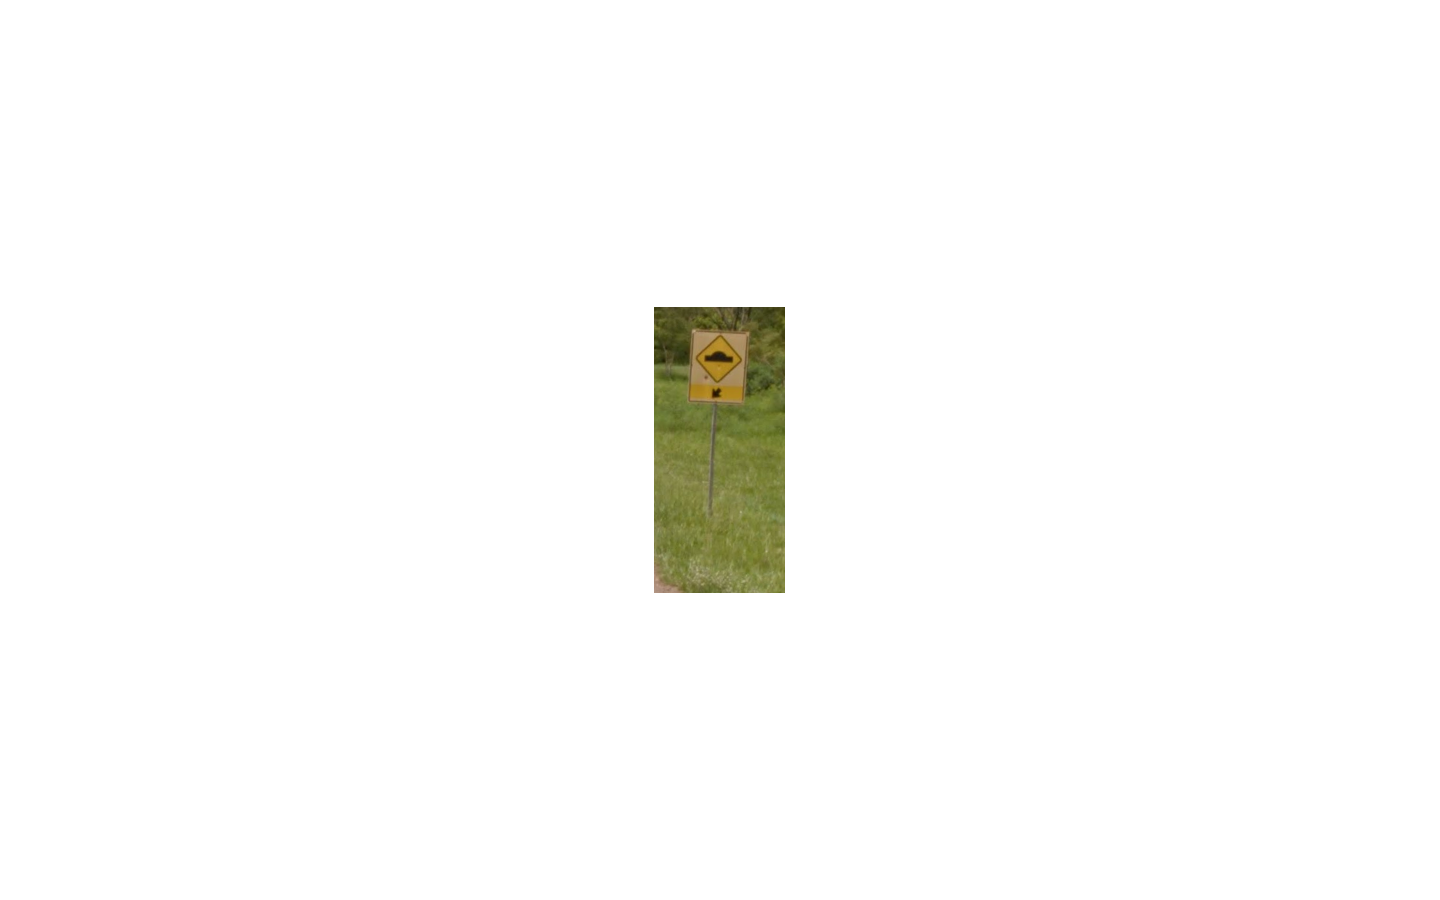lomb: (688, 330, 749, 405)
